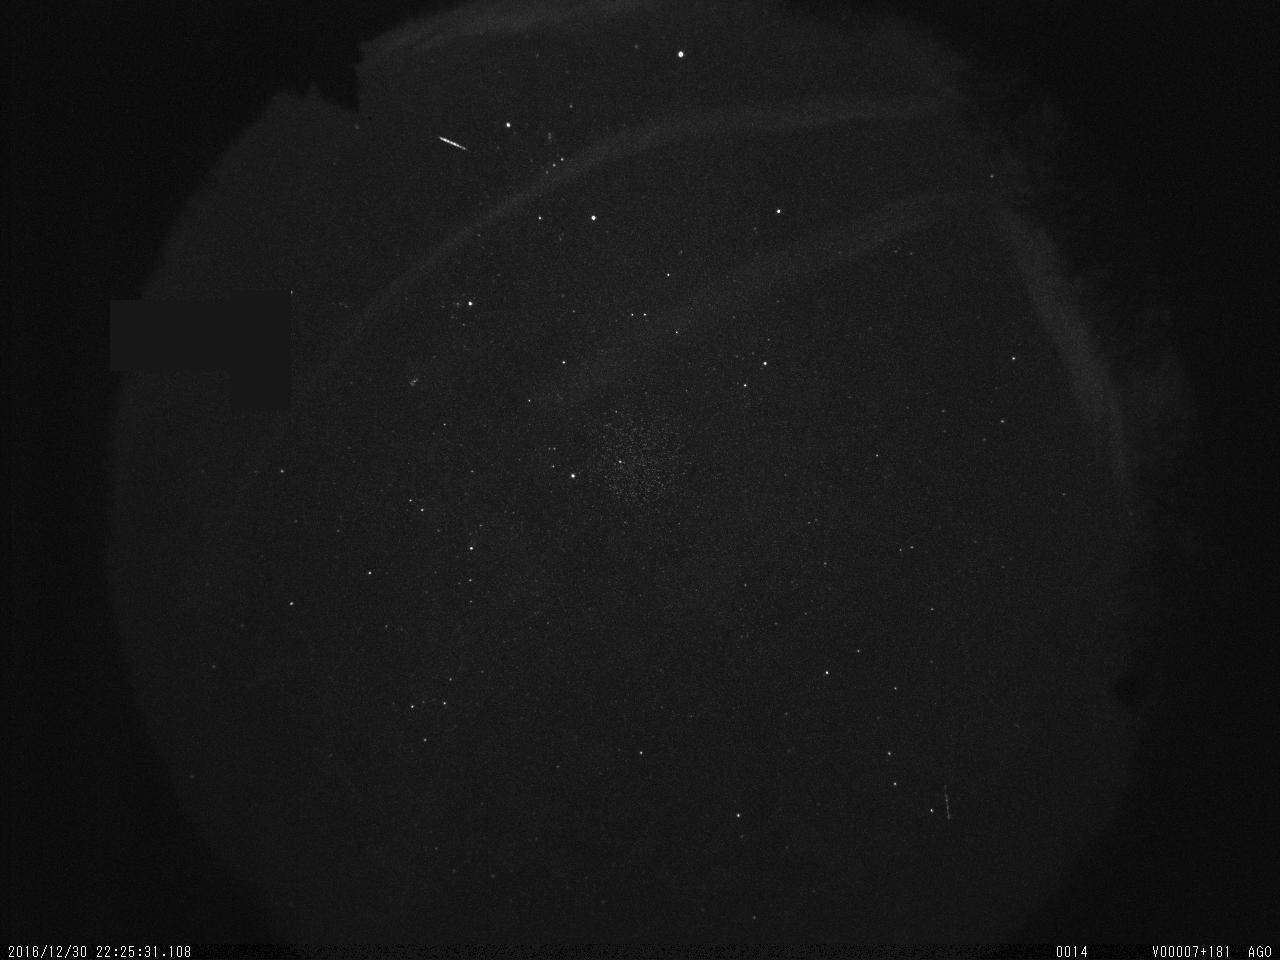meteor: (436, 128, 475, 161)
